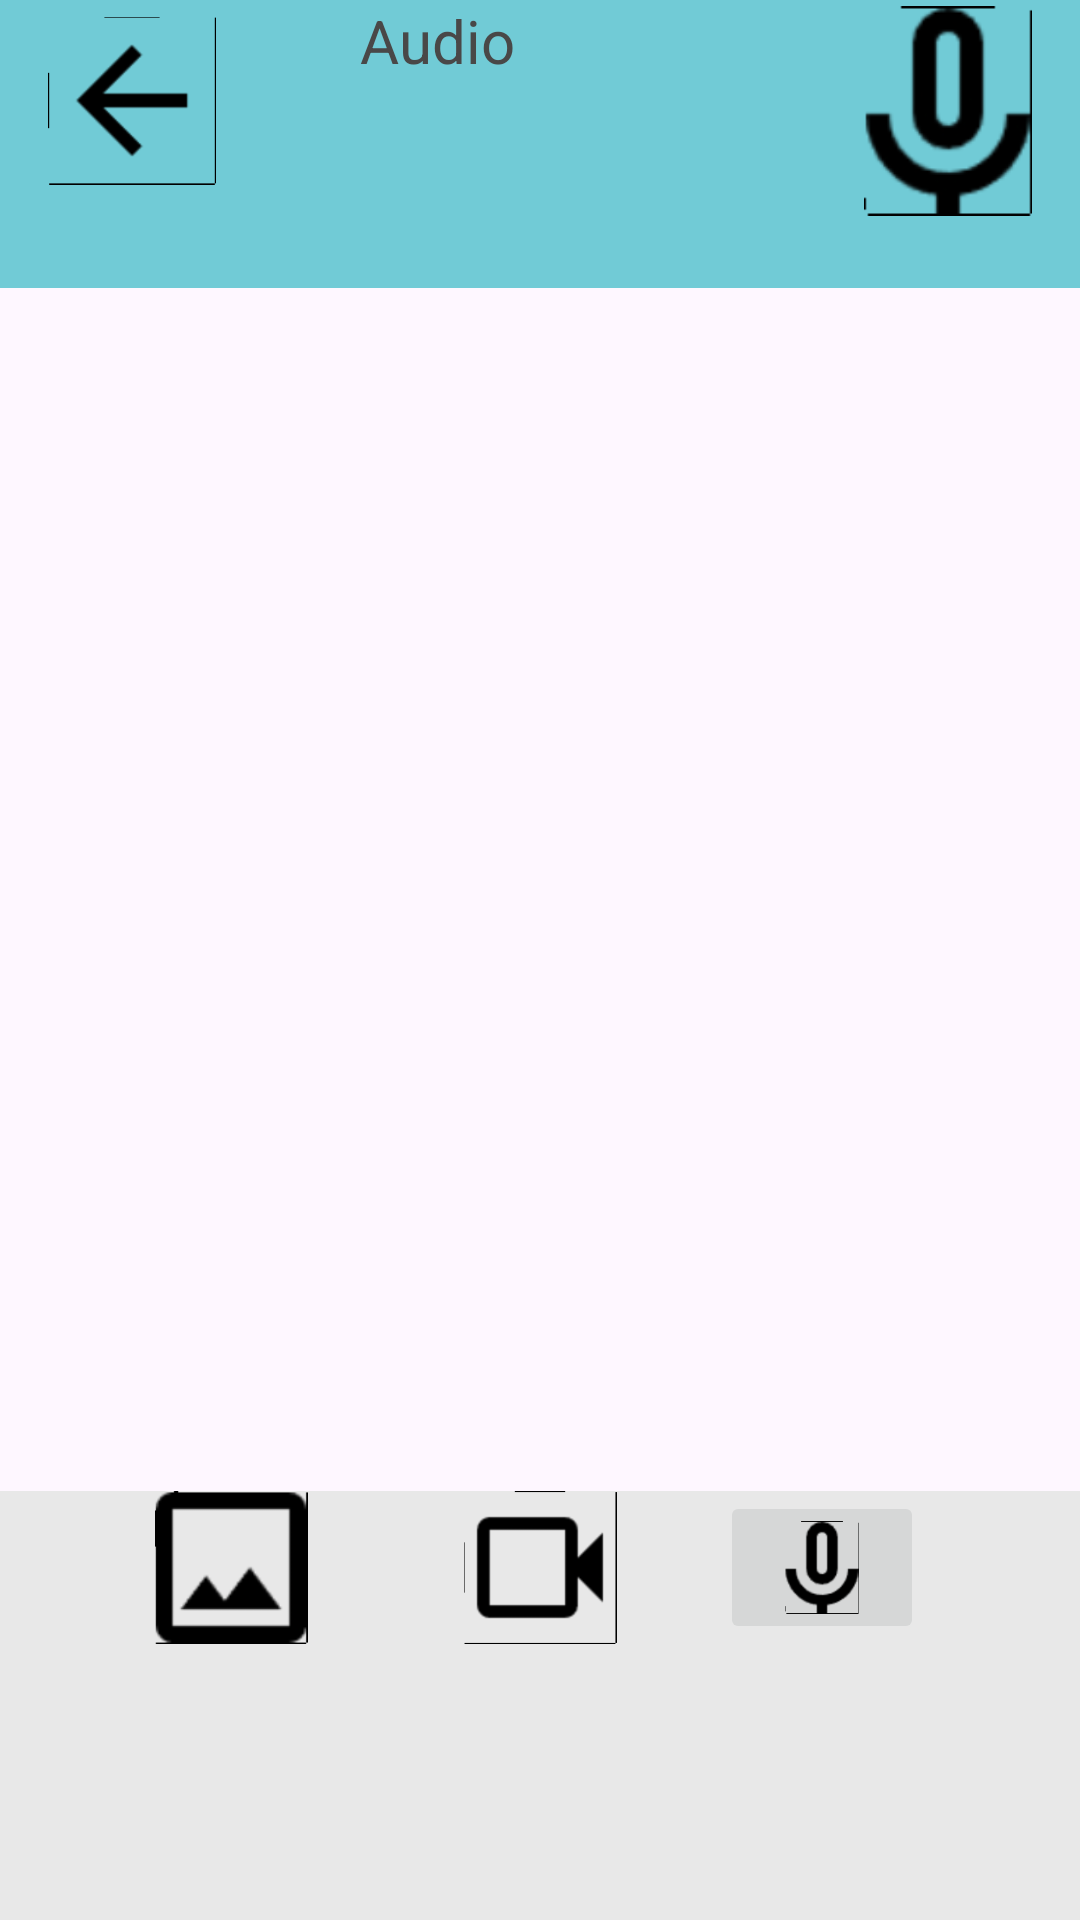

Where icons sit on this 1080w x 1920h app screen, as Rect(x1, y1, x2, y2):
arrow back: Rect(48, 17, 216, 185)
imageselecter: Rect(155, 1491, 308, 1644)
microphone: Rect(864, 6, 1032, 216), Rect(732, 1509, 912, 1626)
videocam: Rect(464, 1491, 617, 1644)
